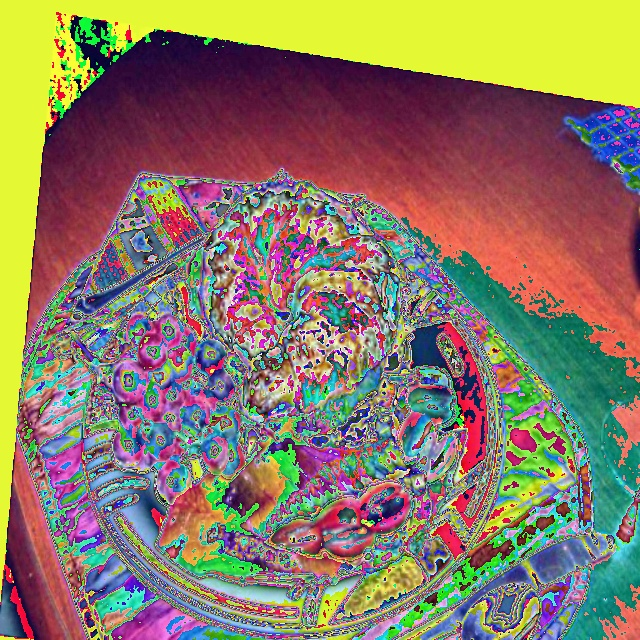background: (70, 177, 468, 586)
